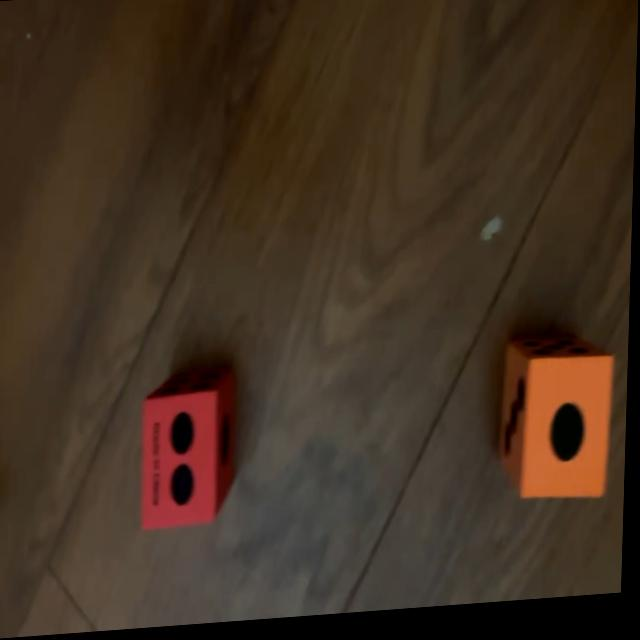cube: (140, 367, 242, 533)
